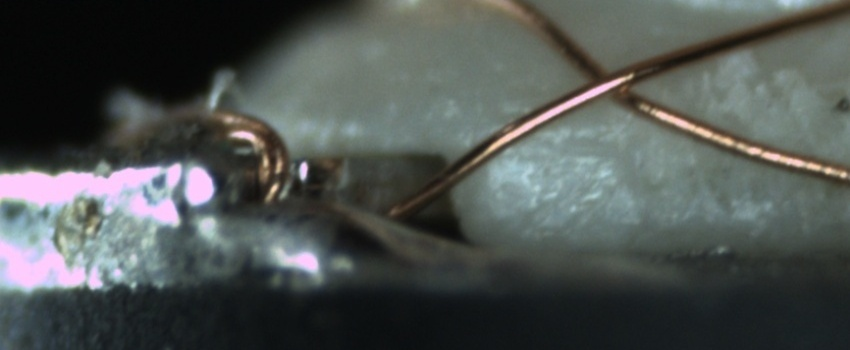CL: (561, 49, 662, 115)
DL: (501, 121, 616, 184)
TE: (197, 100, 296, 210)
